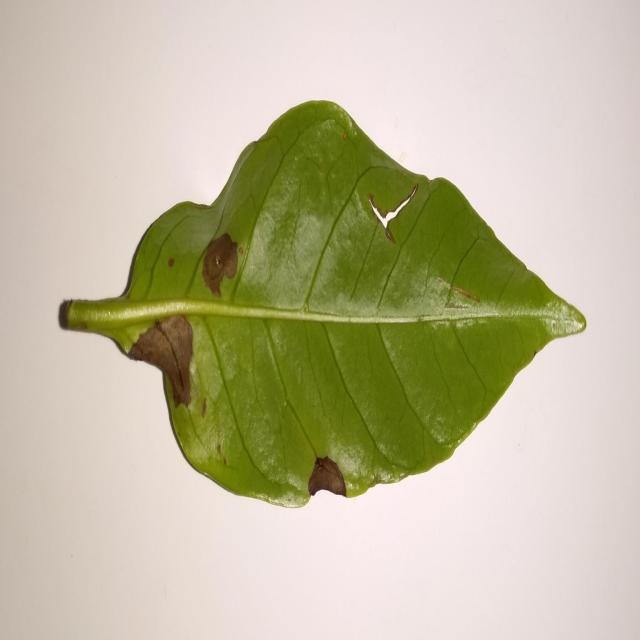Enfermedad-Antracnosis: (56, 101, 588, 512)
